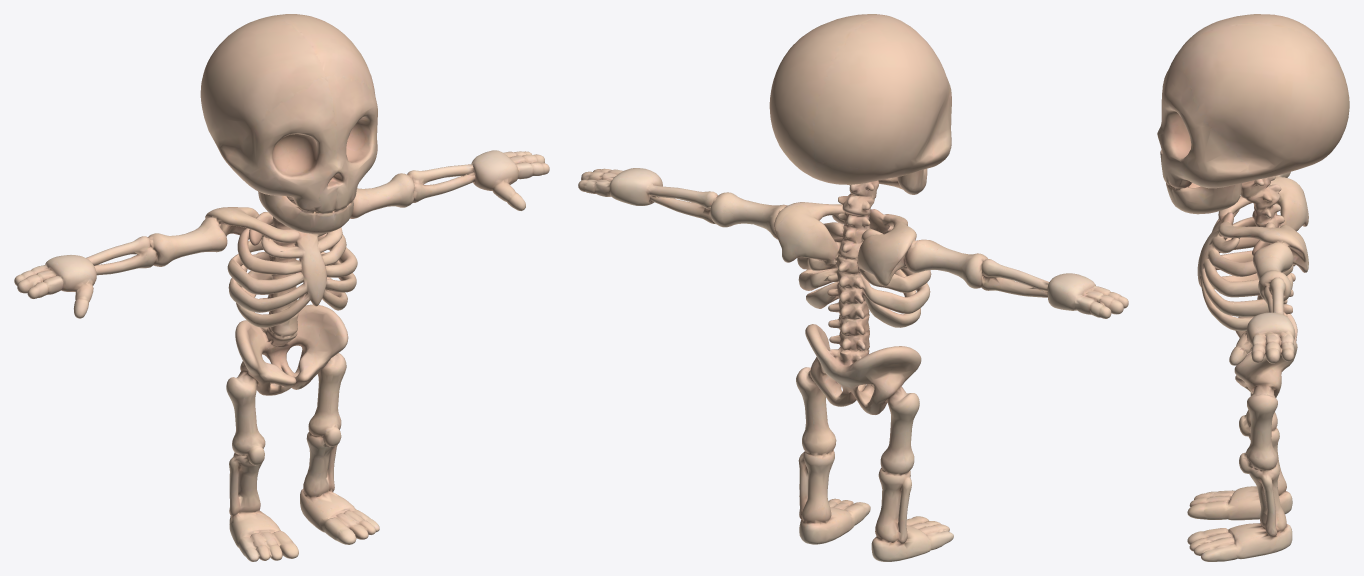
File: a3D-esqueleto.glb
3 views of the same model, side by side, from view 1: azimuth 30°, elevation 25°; view 2: azimuth 150°, elevation 25°; view 3: azimuth 270°, elevation 25° (orthographic). The views are drawn at different scales.
Parts seen in each view (by area): view 1: geometry_0; view 2: geometry_0; view 3: geometry_0.
Boxes of the visible parts, <box> form: geometry_0: <box>14,14,549,561</box>; geometry_0: <box>578,14,1128,561</box>; geometry_0: <box>1157,14,1349,561</box>.
Bounding box in the file's own units: 1.9 × 1.74 × 0.597.
Materials: 1 (1 with a texture image).
